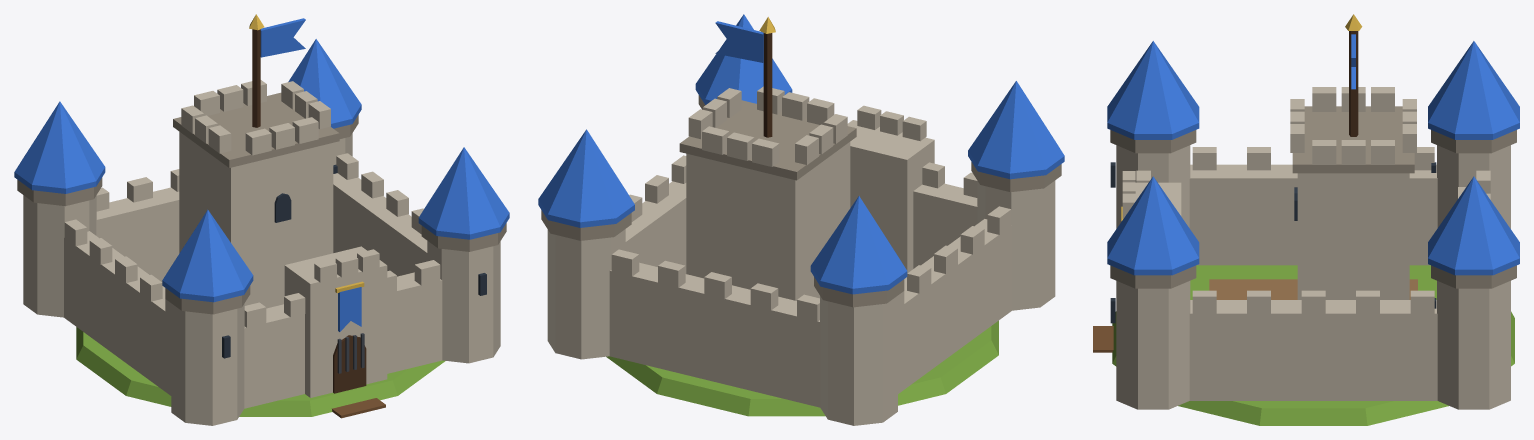
Rendered from bld_castle.glb.
The picture shows the model from 3 angles, left to right: view 1: azimuth 30°, elevation 25°; view 2: azimuth 150°, elevation 25°; view 3: azimuth 270°, elevation 25°; orthographic projection. The views are drawn at different scales.
Parts seen in each view (by area): view 1: bld_castle; view 2: bld_castle; view 3: bld_castle.
Boxes of the visible parts, x1,y1,x2,y2 form: bld_castle: (14, 14, 509, 425); bld_castle: (538, 14, 1064, 425); bld_castle: (1093, 14, 1519, 425).
Size of the model in its own units: 0.5146 by 0.4592 by 0.5323.
